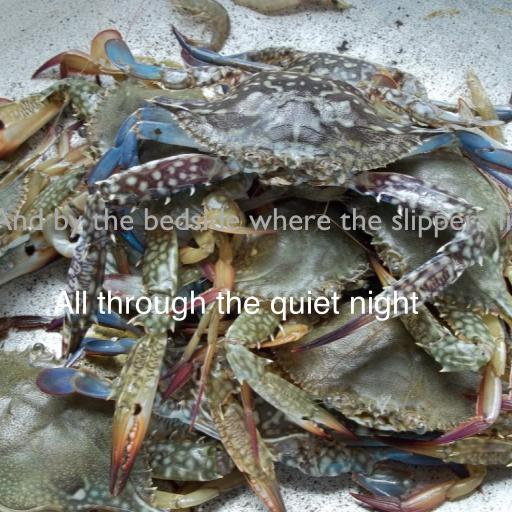Big Caslon: (53, 290, 419, 321)
Gill Sans: (0, 208, 512, 238)
